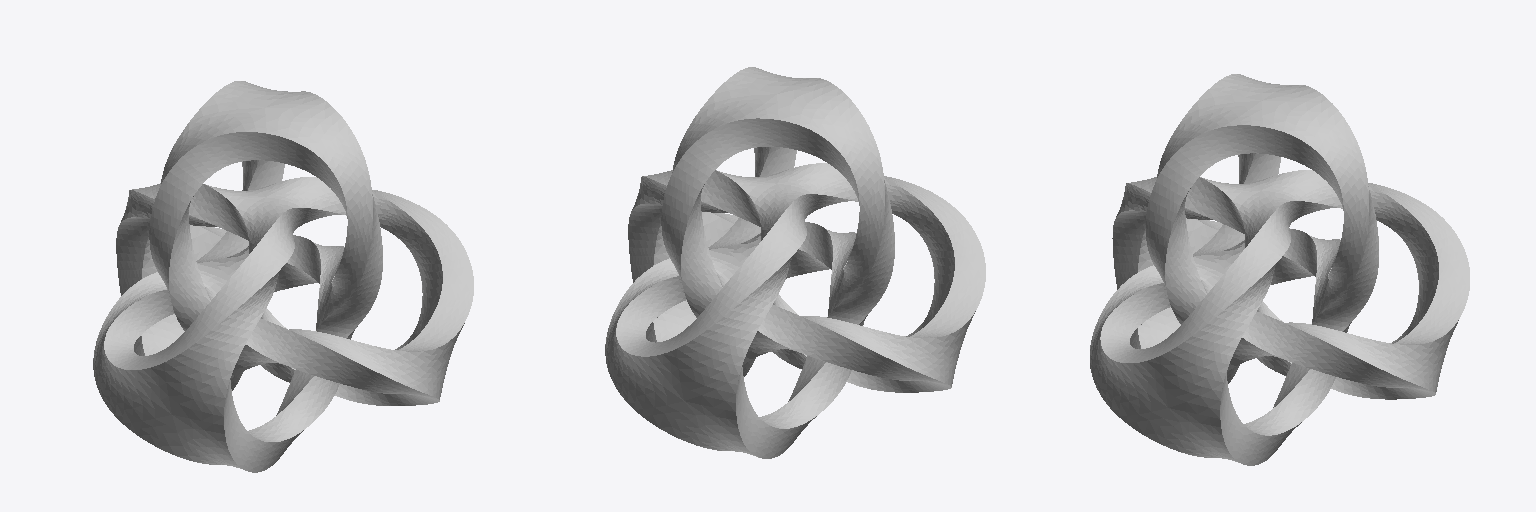
The model's file is material_display.obj.
3 views of the same model, side by side, from view 1: azimuth 30°, elevation 25°; view 2: azimuth 150°, elevation 25°; view 3: azimuth 270°, elevation 25° (orthographic).
Visible parts, largest first — view 1: abstract_object(low_poly); view 2: abstract_object(low_poly); view 3: abstract_object(low_poly).
Part boxes in pixels (bbox=[...]): abstract_object(low_poly): bbox=[93, 81, 473, 472]; abstract_object(low_poly): bbox=[605, 67, 985, 458]; abstract_object(low_poly): bbox=[1090, 74, 1469, 465].
Size of the model in its own units: 1.65 by 1.46 by 1.62.